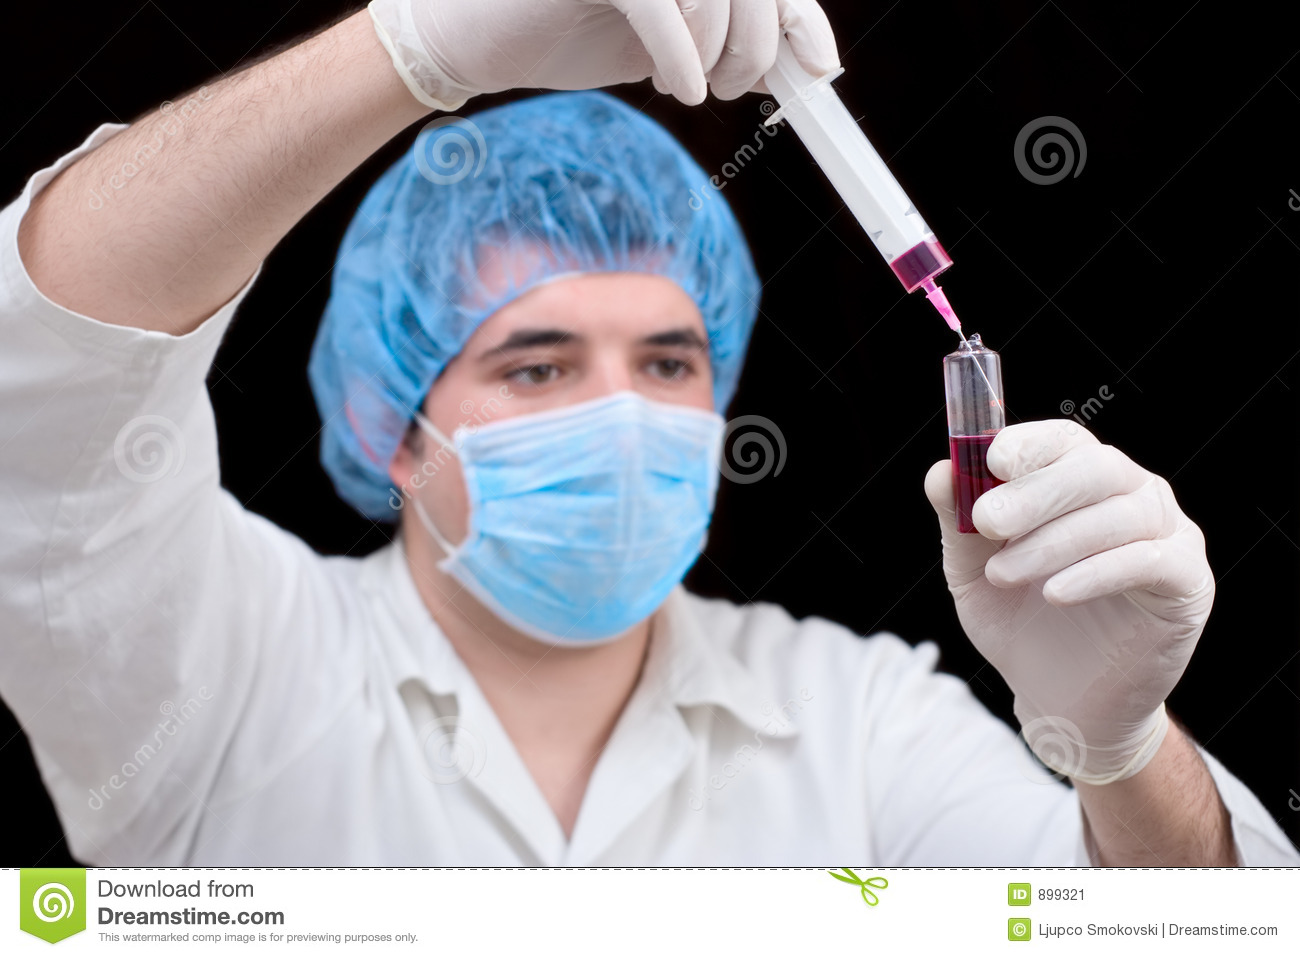mask: (436, 388, 723, 663)
